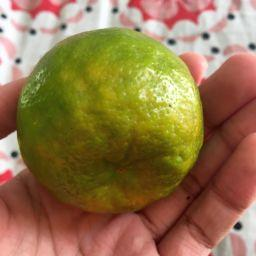Unripe: (15, 27, 204, 212)
